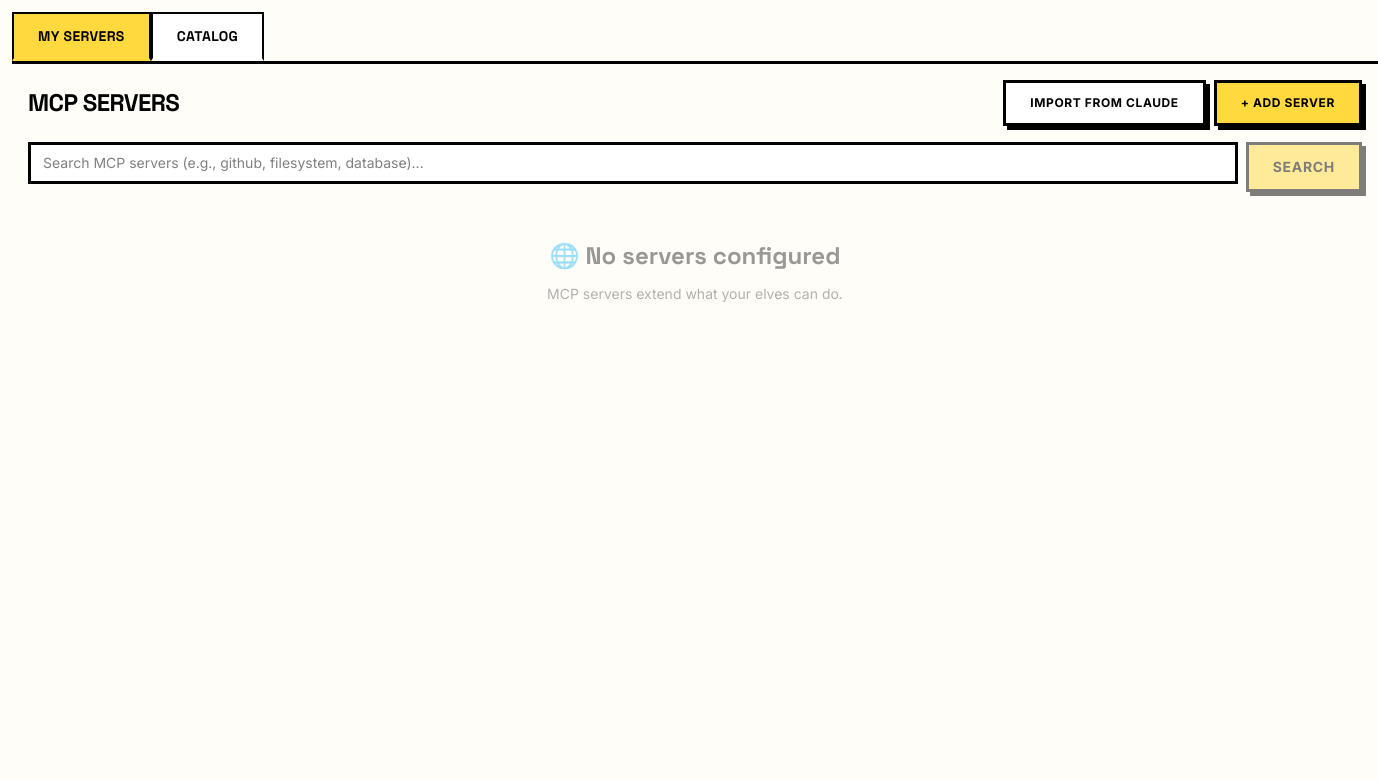
Test: McpManager › opens add form when + Add Server is clicked
Click the button "+ Add Server" at point(1288, 103), box [1214, 80, 1362, 126]
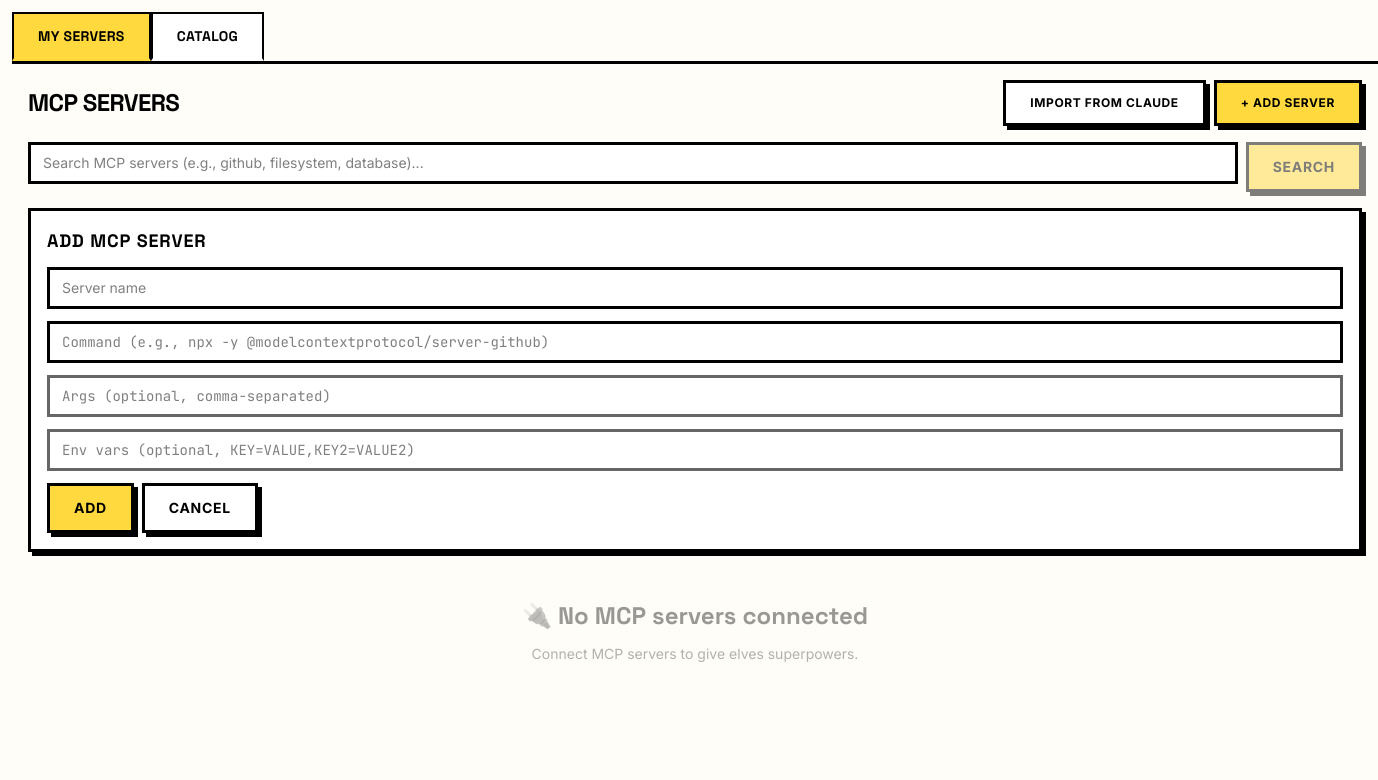
Expected: the element with test id "mcp-add-form" is shown, [28, 208, 1362, 552]
